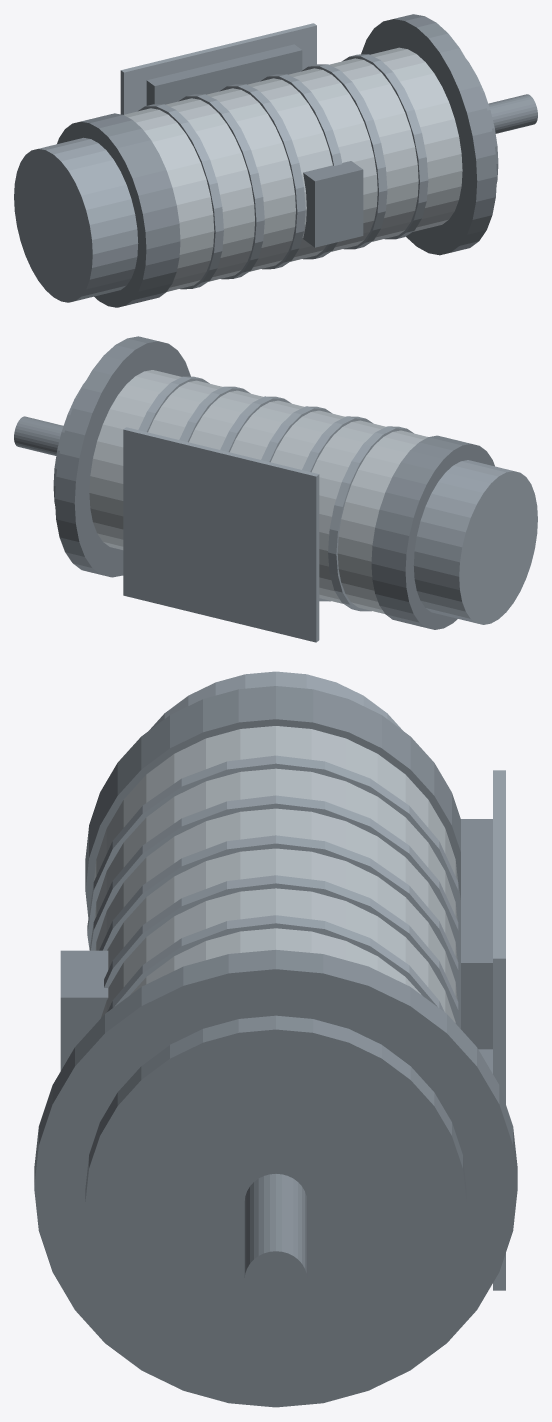
File: iec_90l_b35.glb
3 views of the same model, one above another, from view 1: azimuth 30°, elevation 25°; view 2: azimuth 150°, elevation 25°; view 3: azimuth 270°, elevation 25° (orthographic). The views are drawn at different scales.
Parts seen in each view (by area): view 1: iec_90l_b35; view 2: iec_90l_b35; view 3: iec_90l_b35.
Boxes of the visible parts, x1=… form: iec_90l_b35: x1=14, y1=14, x2=537, y2=307; iec_90l_b35: x1=14, y1=336, x2=537, y2=642; iec_90l_b35: x1=34, y1=671, x2=517, y2=1407.
Size of the model in its own units: 2.28 by 1 by 1.
